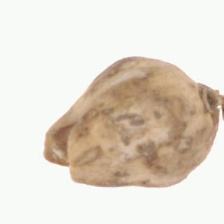L1: (41, 126, 77, 184), (187, 74, 221, 133)
L2: (42, 55, 220, 189)
